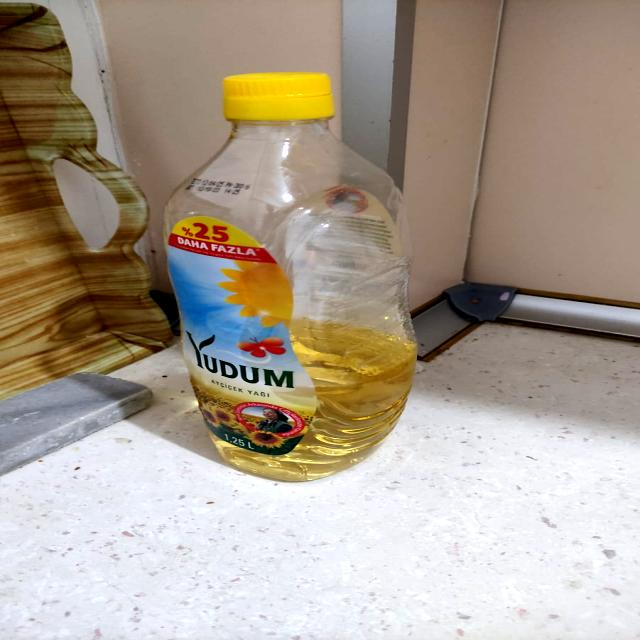olive oil: (154, 69, 424, 484)
